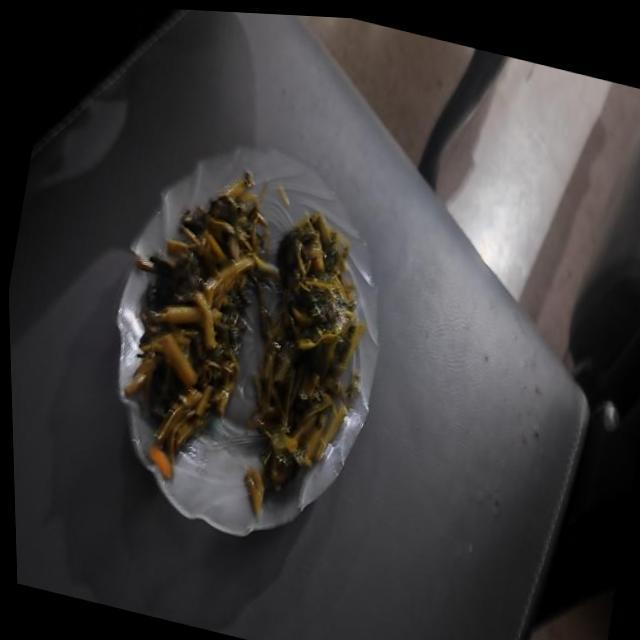tumis_kangkung: (125, 172, 276, 464), (251, 212, 365, 490)
